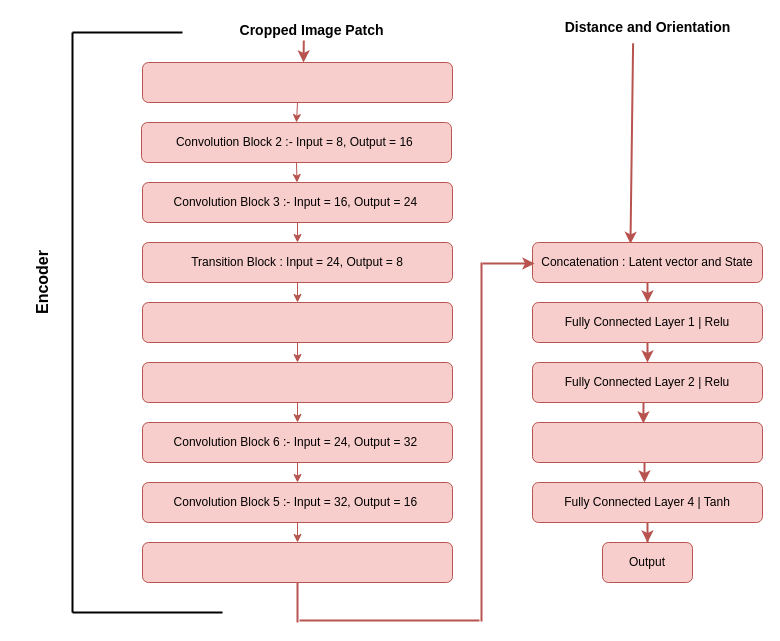
The diagram is 780 pixels wide and 641 high, and some of its shapes have lost their labels. The centre of each missing label's shape, as x and y in pixels:
Convolution Block 1 :- Input = 1, Output = 8: point (297, 82)
Convolution Block 4 :- Input = 8, Output = 16: point (297, 322)
Convolution Block 5 :- Input = 16, Output = 24: point (297, 382)
Fully Connected Layer 3 | Relu: point (647, 442)
GAP: point (297, 562)
